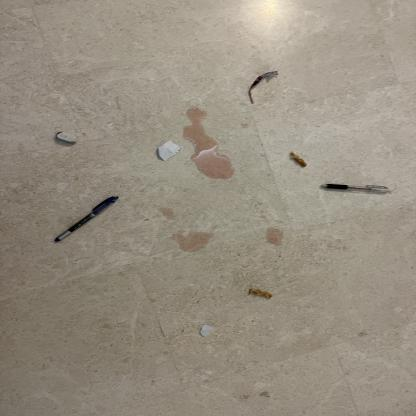dirty: (249, 71, 278, 104), (157, 140, 181, 162), (290, 151, 307, 168), (248, 290, 273, 300), (200, 325, 212, 337)
liquid: (183, 108, 234, 179), (170, 230, 212, 252), (266, 228, 284, 246), (259, 202, 268, 221), (162, 207, 174, 220), (241, 122, 249, 128), (155, 214, 161, 218)
